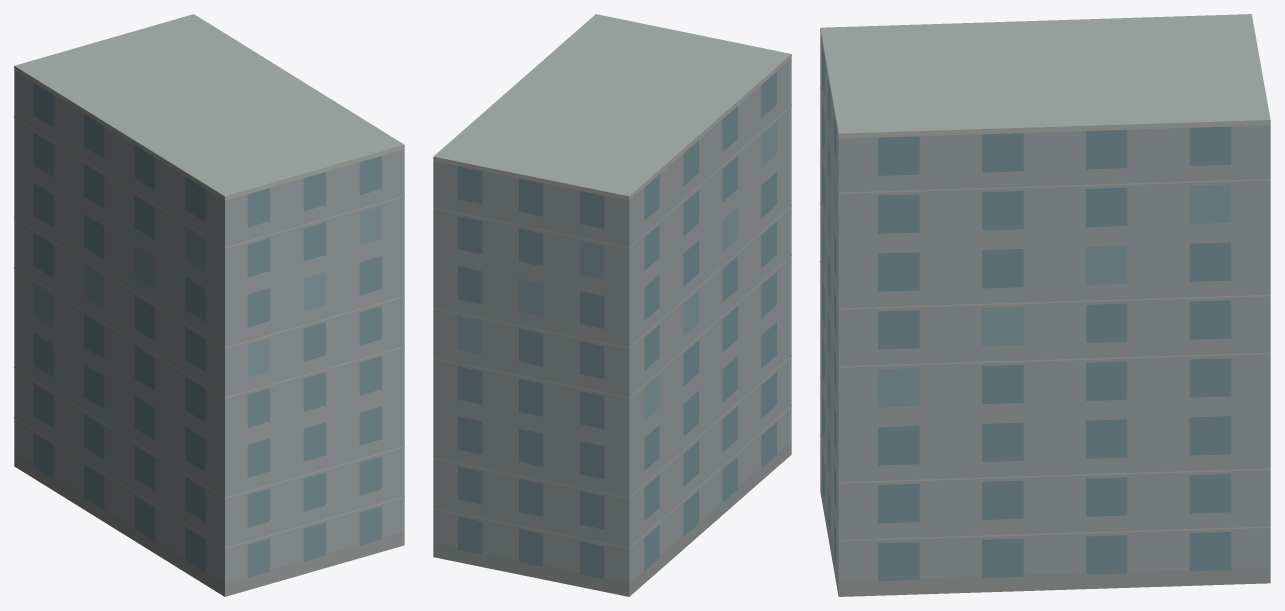
The model's file is survey-upis-32767084.glb.
3 renders of one model, left to right at view 1: azimuth 30°, elevation 25°; view 2: azimuth 150°, elevation 25°; view 3: azimuth 270°, elevation 25°, orthographic. The views are drawn at different scales.
Parts seen in each view (by area): view 1: survey-upis-32767084.tmp; view 2: survey-upis-32767084.tmp; view 3: survey-upis-32767084.tmp.
Boxes of the visible parts, <box> form: survey-upis-32767084.tmp: <box>14,14,404,596</box>; survey-upis-32767084.tmp: <box>433,14,791,596</box>; survey-upis-32767084.tmp: <box>820,14,1270,596</box>.
Bounding box in the file's own units: 12.04 × 21.7 × 19.14.
